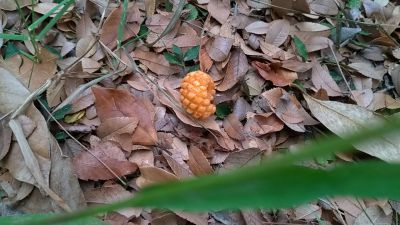eggs: (177, 68, 222, 121)
